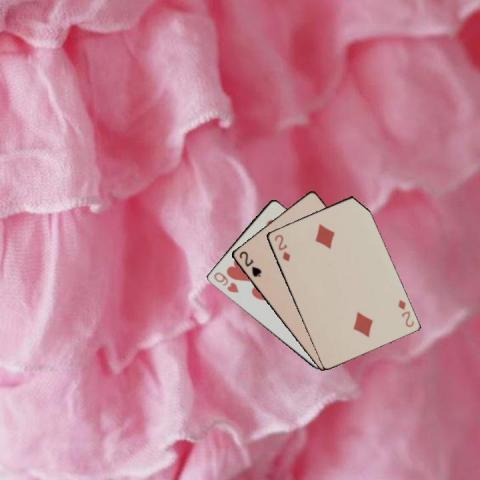2d: (271, 231, 292, 263), (395, 296, 415, 328)
2s: (236, 248, 263, 279)
9h: (210, 268, 240, 294)
